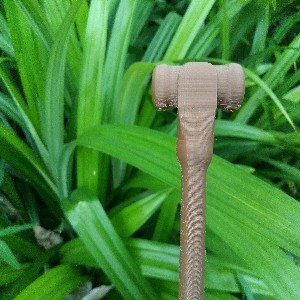palu: (152, 61, 245, 300)
